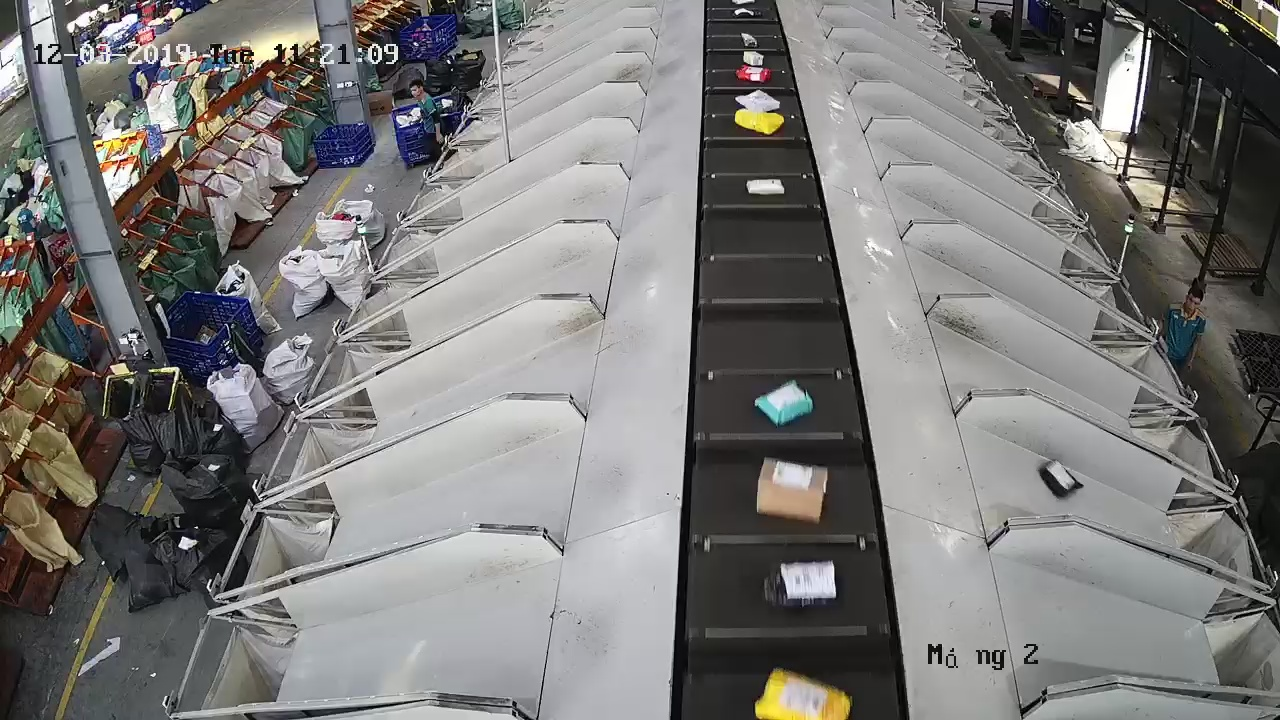parcel: (755, 455, 829, 524), (761, 558, 839, 608), (754, 380, 814, 429), (1037, 458, 1085, 500), (745, 178, 786, 196), (734, 67, 773, 83)
